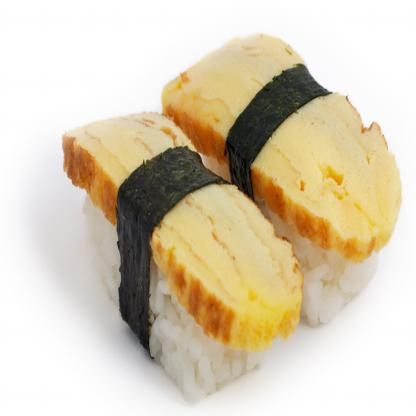tamago: (44, 72, 307, 403)
